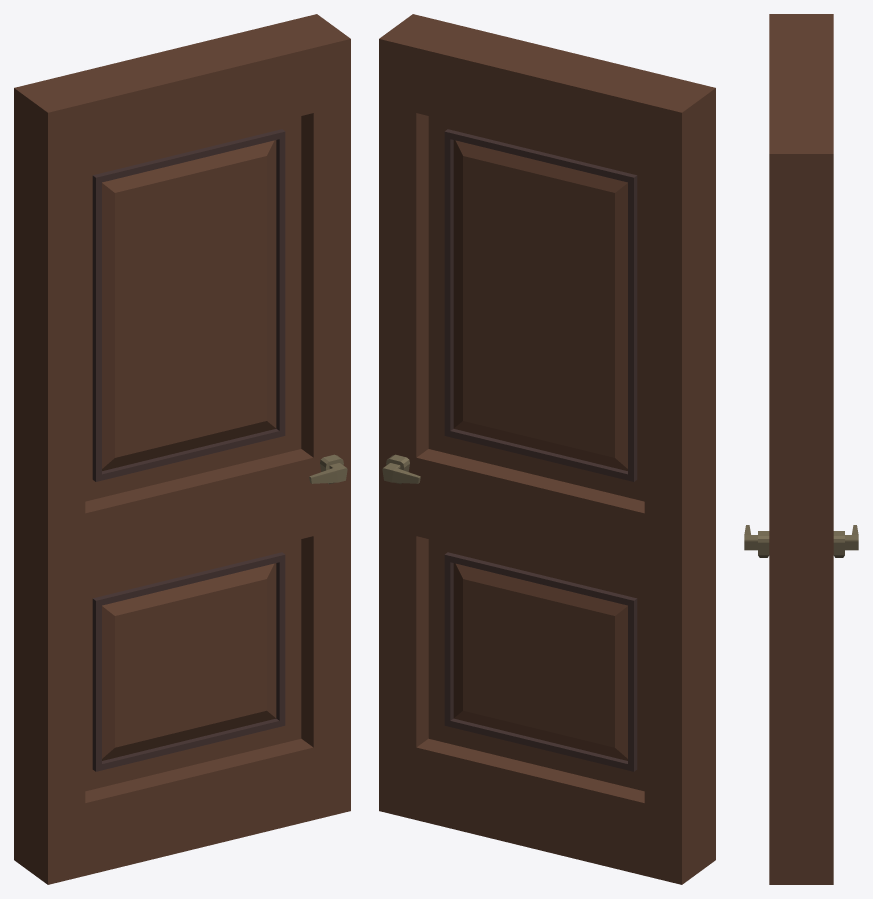
Rendered from normaldoor.fbx.
3 views of the same model, side by side, from view 1: azimuth 30°, elevation 25°; view 2: azimuth 150°, elevation 25°; view 3: azimuth 270°, elevation 25° (orthographic). The views are drawn at different scales.
Parts seen in each view (by area): view 1: Door_1; view 2: Door_1; view 3: Door_1.
Boxes of the visible parts, bbox=[...] form: Door_1: bbox=[14, 14, 350, 884]; Door_1: bbox=[379, 14, 715, 884]; Door_1: bbox=[744, 14, 858, 884].
Bounding box in the file's own units: 240 × 584 × 82.82.
